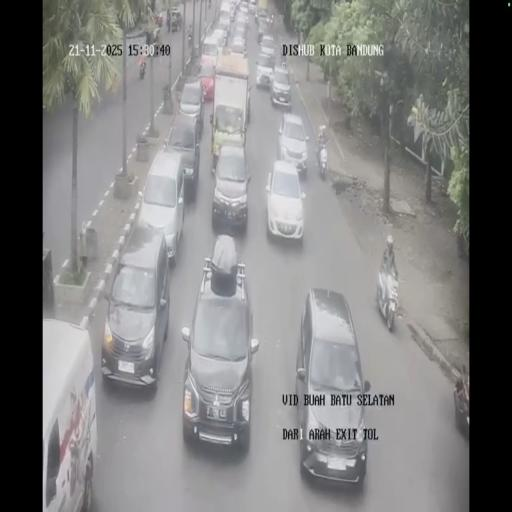3: (257, 0, 268, 21)
car: (295, 290, 367, 487), (100, 229, 170, 390), (41, 320, 95, 511), (210, 144, 251, 232), (164, 116, 202, 192), (276, 112, 308, 178), (270, 63, 293, 109), (196, 55, 217, 101), (256, 45, 276, 87), (202, 31, 224, 60), (256, 17, 270, 42), (217, 16, 231, 39), (231, 35, 245, 53), (230, 2, 238, 22), (240, 0, 249, 16), (248, 0, 257, 14)
truck: (377, 260, 399, 331), (316, 140, 328, 180), (170, 14, 178, 32), (139, 58, 146, 78), (153, 26, 161, 42), (187, 29, 193, 48), (269, 14, 274, 28)
